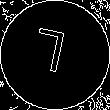L_S: (35, 27, 75, 83)
